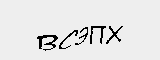В: (36, 29, 58, 53)
П: (88, 24, 105, 46)
С: (58, 27, 78, 53)
Х: (106, 22, 125, 46)
Э: (73, 25, 90, 47)
